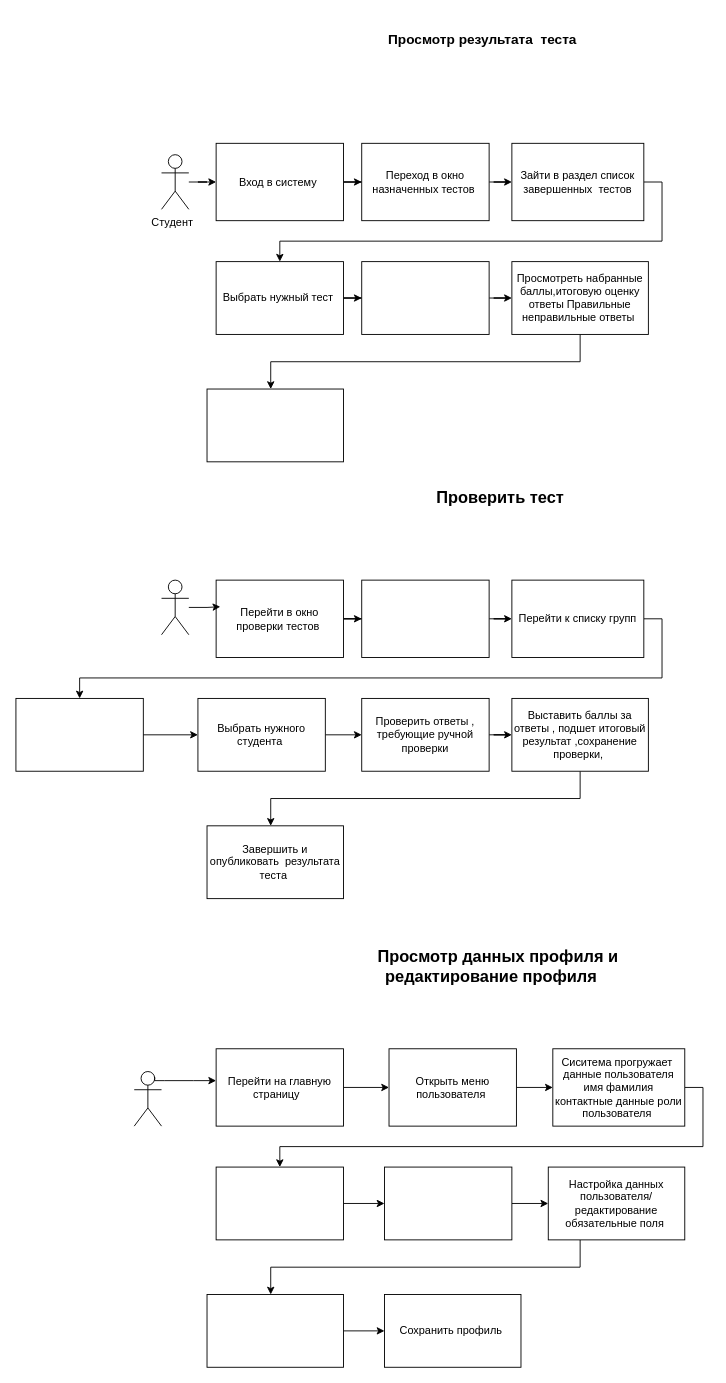
Image size: 726x1383. Some labels were removed from this diagram. The centre of each missing label's shape, as x and y in pixels:
"Выбрать нужную группу" belongs at pixel 79 734.
"Выбрать тест" belongs at pixel 425 618.
"Завершить просмотр результата теста" belongs at pixel 275 425.
"Настройка интерфейса" belongs at pixel 448 1203.
"Настройка уведомнелий" belongs at pixel 275 1330.
"Настройка языка" belongs at pixel 279 1203.
"Открыть результаты теста" belongs at pixel 425 297.
"Пользователь" belongs at pixel 147 1098.
"Преподователь" belongs at pixel 175 607.
